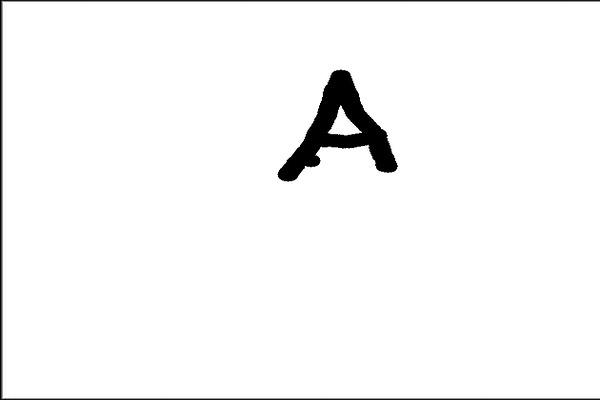A: (266, 64, 411, 188)
